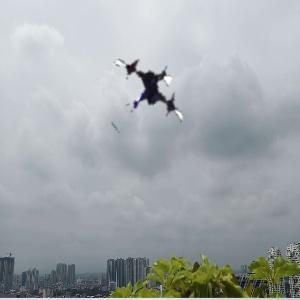drone: (96, 52, 194, 150)
